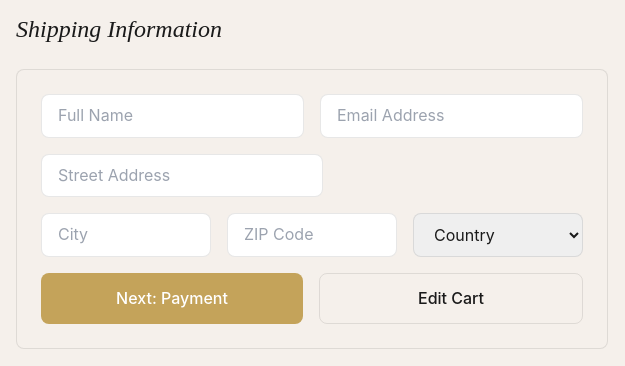
Checkout Integration Tests › proceeds to payment step
expect the heading "Shipping Information" is shown: met, box [16,16,222,42]
Fill in required fields and proceed
In the field with placeholder "Full Name": (172, 116) [41,94,304,138], type "John Doe"
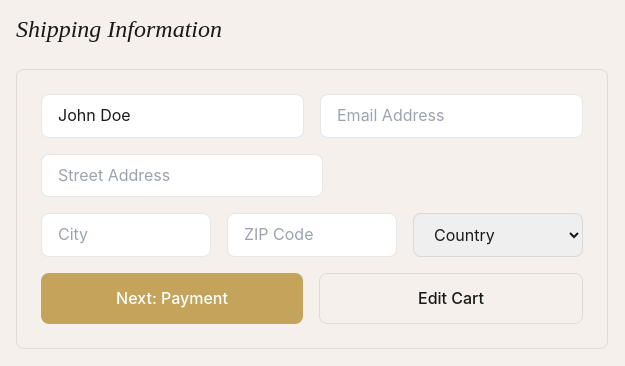
Click the button "Next: Payment": (172, 299) [41,273,303,324]
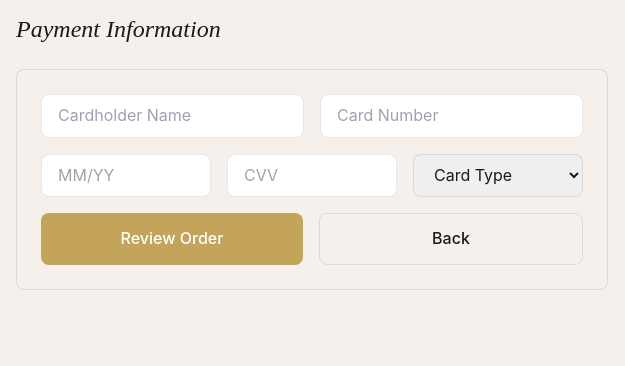
expect the heading "Payment Information" is shown: met, box [16,16,221,42]
expect the field with placeholder "Cardholder Name" is shown: met, box [41,94,304,138]
expect the button "Review Order" is shown: met, box [41,213,303,265]
